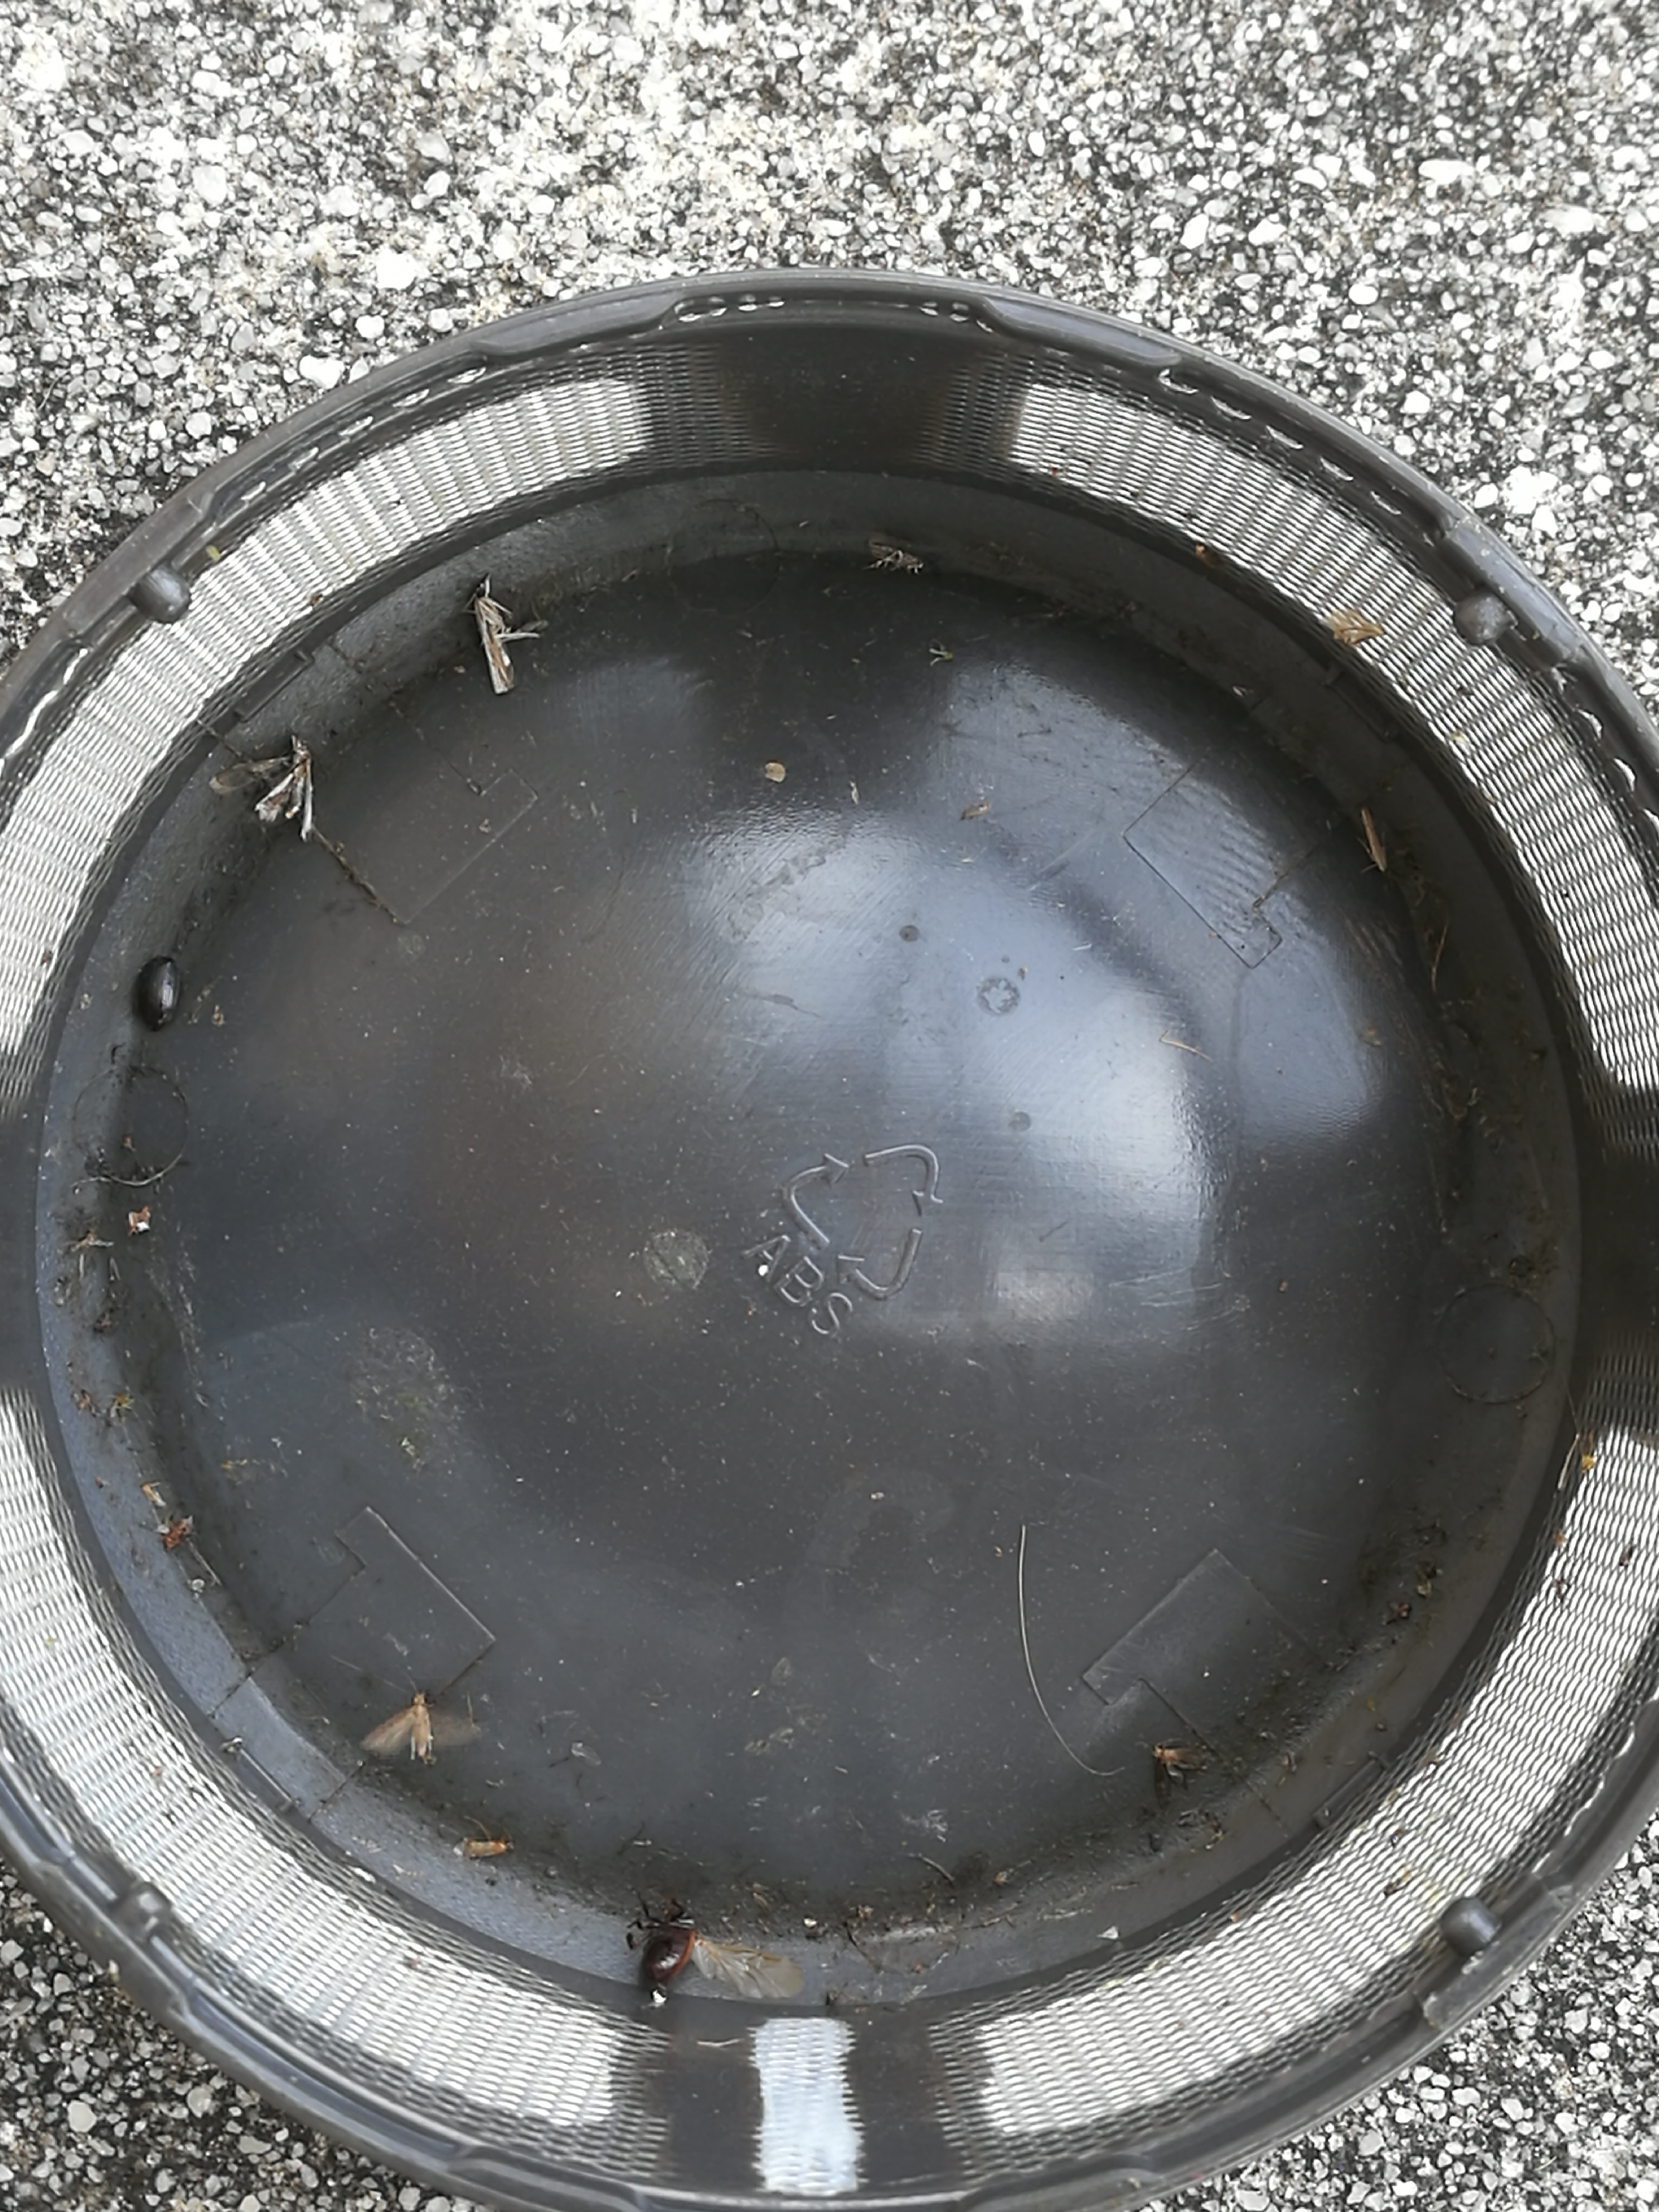beetle: (627, 1900, 694, 1979)
mosquito: (477, 575, 512, 691), (866, 543, 927, 571), (458, 1841, 509, 1857)
moth: (213, 738, 314, 843), (357, 1693, 484, 1757), (1152, 1745, 1206, 1810)
